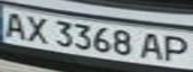3: (48, 18, 75, 50), (69, 21, 93, 52)
6: (90, 25, 115, 55)
8: (112, 27, 139, 57)
A: (136, 30, 169, 62), (0, 9, 30, 39)
P: (160, 33, 193, 63)
X: (21, 12, 54, 45)
